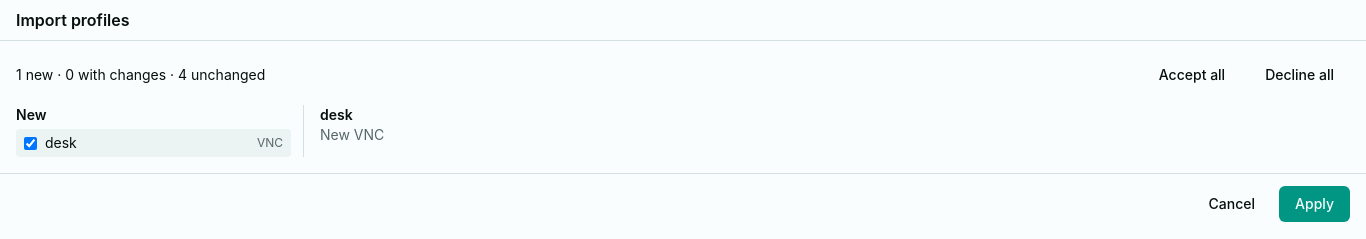
an imported VNC profile is in the VNC store once the import is applied
Click the button "Apply". click: (1315, 204)
box: x1=1279 y1=186 x2=1350 y2=222
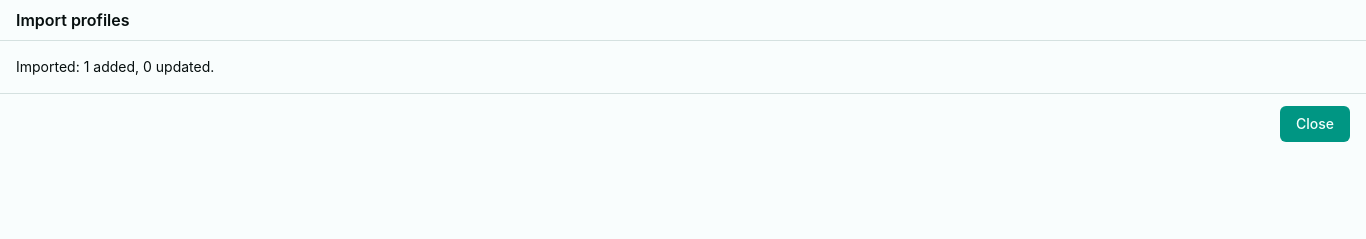
Check: the text "Imported: 1 added, 0 updated." is shown, box x1=16 y1=58 x2=214 y2=75
